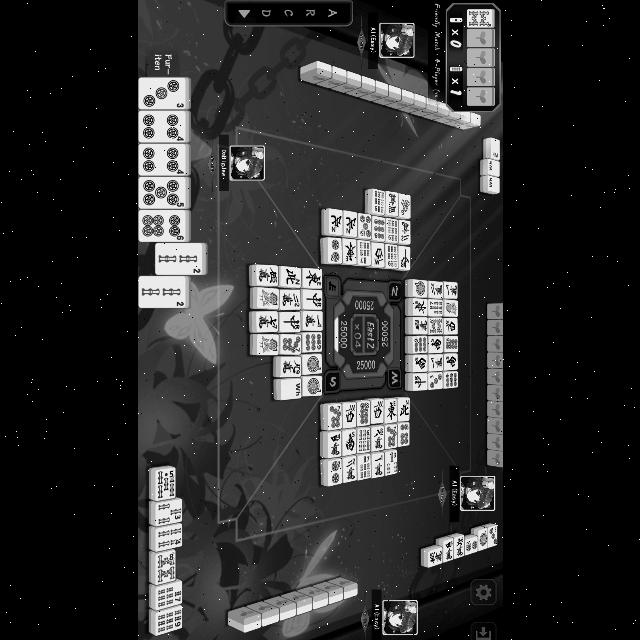1m: (302, 312, 322, 331), (372, 452, 384, 478), (428, 354, 444, 372), (444, 282, 458, 298)
1p: (302, 354, 322, 374), (302, 376, 322, 396), (478, 529, 488, 551), (414, 281, 426, 297)
1s: (256, 288, 278, 310), (258, 334, 278, 356), (444, 300, 460, 316)
2m: (280, 290, 300, 310), (342, 456, 356, 484), (429, 282, 443, 298), (400, 221, 410, 243)
2p: (327, 459, 341, 488), (327, 238, 341, 264), (465, 537, 477, 555)
2s: (154, 243, 202, 274), (138, 276, 184, 308)
3m: (412, 318, 428, 334), (387, 193, 397, 217)
3p: (138, 77, 184, 109), (488, 526, 498, 548), (430, 372, 442, 390)
3s: (154, 500, 182, 524), (385, 450, 397, 476)
4m: (328, 432, 342, 458), (442, 538, 453, 562)
4p: (138, 112, 186, 142), (139, 145, 185, 175)
4s: (154, 527, 182, 549)
5m: (255, 265, 277, 285), (428, 549, 440, 567)
5p: (138, 177, 184, 207), (360, 214, 372, 240)
5s: (154, 468, 176, 500)
6m: (454, 536, 464, 558)
6p: (139, 210, 185, 242), (398, 423, 410, 447)
6s: (357, 428, 371, 452)
7m: (256, 312, 278, 332)
7p: (281, 334, 301, 354), (329, 404, 341, 430), (385, 424, 397, 448)
7s: (154, 582, 182, 608), (358, 454, 370, 480), (358, 242, 370, 266), (430, 300, 442, 316)
8m: (371, 426, 384, 452)
8p: (358, 400, 370, 426), (444, 337, 460, 351)
8s: (154, 552, 176, 584), (469, 10, 493, 26), (428, 318, 442, 336)
9m: (279, 357, 301, 377), (372, 190, 383, 214)
9p: (302, 332, 322, 353), (412, 336, 428, 356), (444, 372, 458, 391), (374, 217, 384, 239)
9s: (156, 608, 180, 634), (372, 188, 384, 216), (385, 244, 397, 270), (387, 218, 397, 242)
chun: (302, 290, 322, 310), (280, 313, 300, 332), (412, 372, 426, 392), (400, 246, 410, 272)
haku: (279, 380, 301, 400), (488, 138, 499, 160), (488, 176, 499, 192), (486, 162, 499, 174)
hatsu: (398, 196, 410, 218)
nan: (342, 429, 356, 455), (429, 336, 443, 352), (444, 354, 458, 370), (414, 355, 426, 373)
pe: (278, 268, 302, 288), (344, 211, 356, 237), (398, 398, 410, 422), (328, 210, 340, 234)
sha: (342, 402, 356, 428), (371, 400, 384, 424), (372, 244, 384, 268), (445, 318, 459, 332)
tou: (302, 270, 322, 288), (384, 399, 396, 423), (344, 240, 356, 264), (413, 298, 427, 318)
